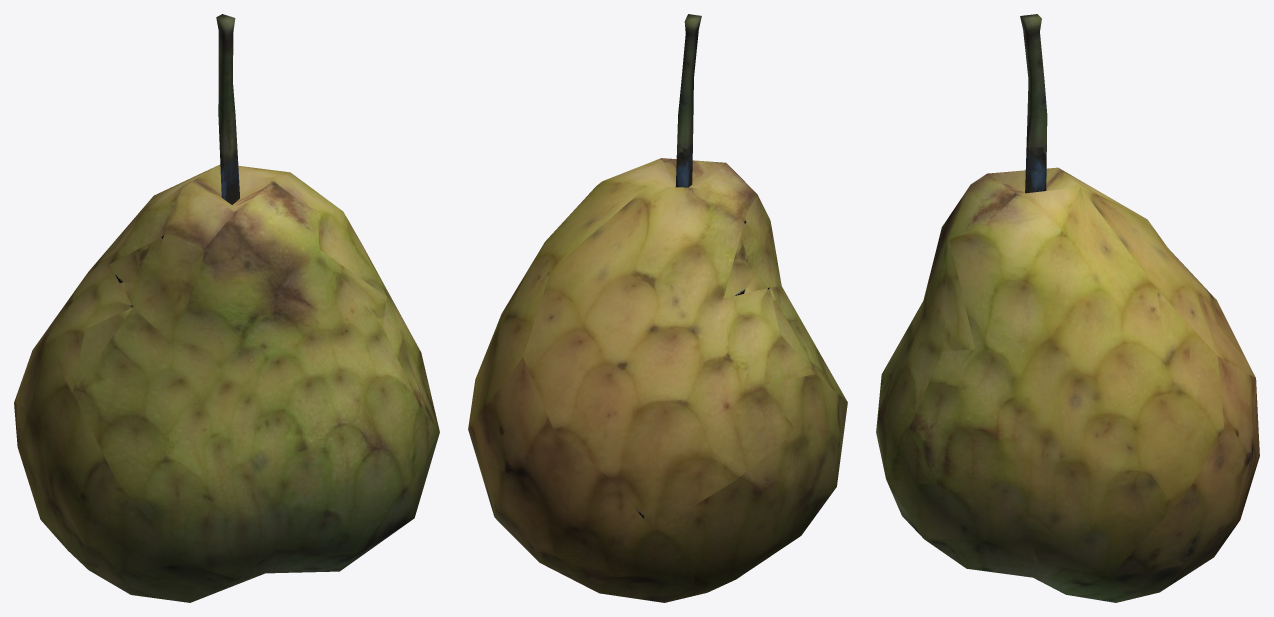
3 views of the same model, side by side, from view 1: azimuth 30°, elevation 25°; view 2: azimuth 150°, elevation 25°; view 3: azimuth 270°, elevation 25° (orthographic). The views are drawn at different scales.
Visible parts, largest first — view 1: 06_custard_apple; view 2: 06_custard_apple; view 3: 06_custard_apple.
Boxes of the visible parts, x1=… form: 06_custard_apple: x1=14, y1=14, x2=439, y2=602; 06_custard_apple: x1=468, y1=14, x2=847, y2=602; 06_custard_apple: x1=876, y1=14, x2=1259, y2=602.
Bounding box in the file's own units: 82.38 × 136 × 85.01.
